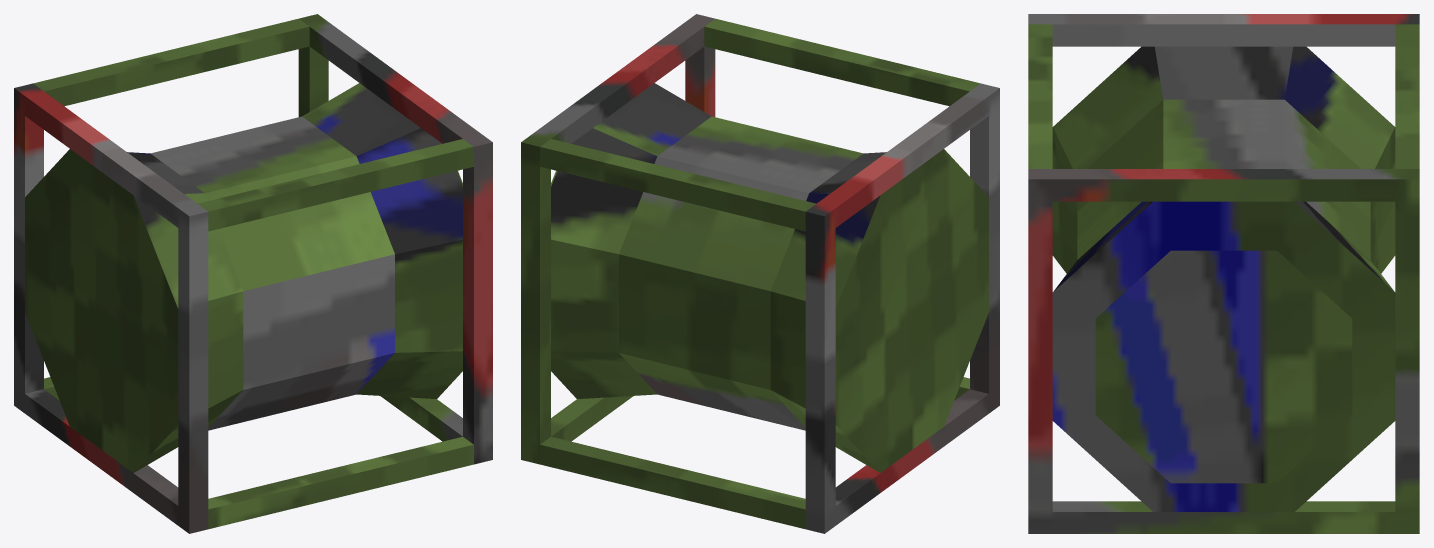
File: vortex_tube.obj
3 renders of one model, left to right at view 1: azimuth 30°, elevation 25°; view 2: azimuth 150°, elevation 25°; view 3: azimuth 270°, elevation 25°, orthographic. The views are drawn at different scales.
Visible parts, largest first — view 1: Cold, Center, Side_1, Hot_1, Sice_2, Cross_1, Cross_3, Cross_2; view 2: Cold, Center, Side_1, Hot_1, Sice_2, Cross_2, Cross_4, Cross_1; view 3: Hot_2, Hot_1, Sice_2, Cold, Center, Side_1, Cross_1, Cross_2.
Part boxes in pixels (<box>): Cold: <box>25,149,243,472</box>; Center: <box>150,116,394,430</box>; Side_1: <box>14,83,208,533</box>; Hot_1: <box>302,83,462,398</box>; Sice_2: <box>298,14,492,464</box>; Cross_1: <box>198,139,473,231</box>; Cross_3: <box>208,436,473,529</box>; Cross_2: <box>33,18,309,106</box>; Cold: <box>770,149,988,472</box>; Center: <box>619,116,863,430</box>; Side_1: <box>805,83,999,533</box>; Hot_1: <box>551,83,711,398</box>; Sice_2: <box>521,14,715,464</box>; Cross_2: <box>540,139,815,231</box>; Cross_4: <box>540,436,805,529</box>; Cross_1: <box>704,18,980,106</box>; Hot_2: <box>1095,250,1352,483</box>; Hot_1: <box>1052,201,1395,511</box>; Sice_2: <box>1028,169,1419,533</box>; Cold: <box>1052,46,1395,273</box>; Center: <box>1077,99,1370,259</box>; Side_1: <box>1028,14,1419,46</box>; Cross_1: <box>1028,24,1052,168</box>; Cross_2: <box>1395,24,1419,168</box>.
Bounding box in the file's own units: 669 × 630 × 630.
